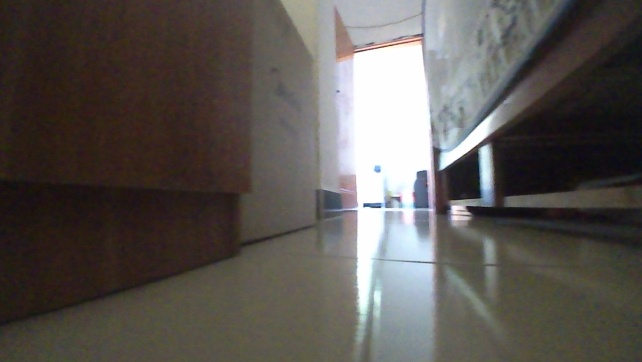bed1: (419, 0, 641, 221)
